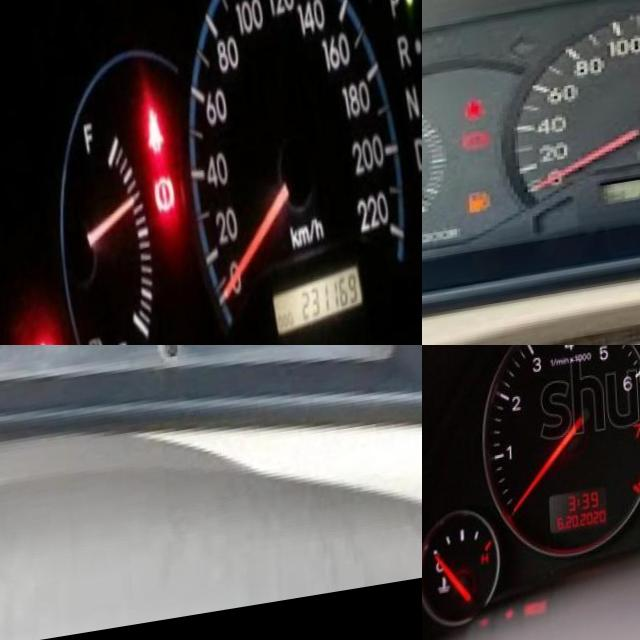Seat Belt: (140, 114, 164, 164)
